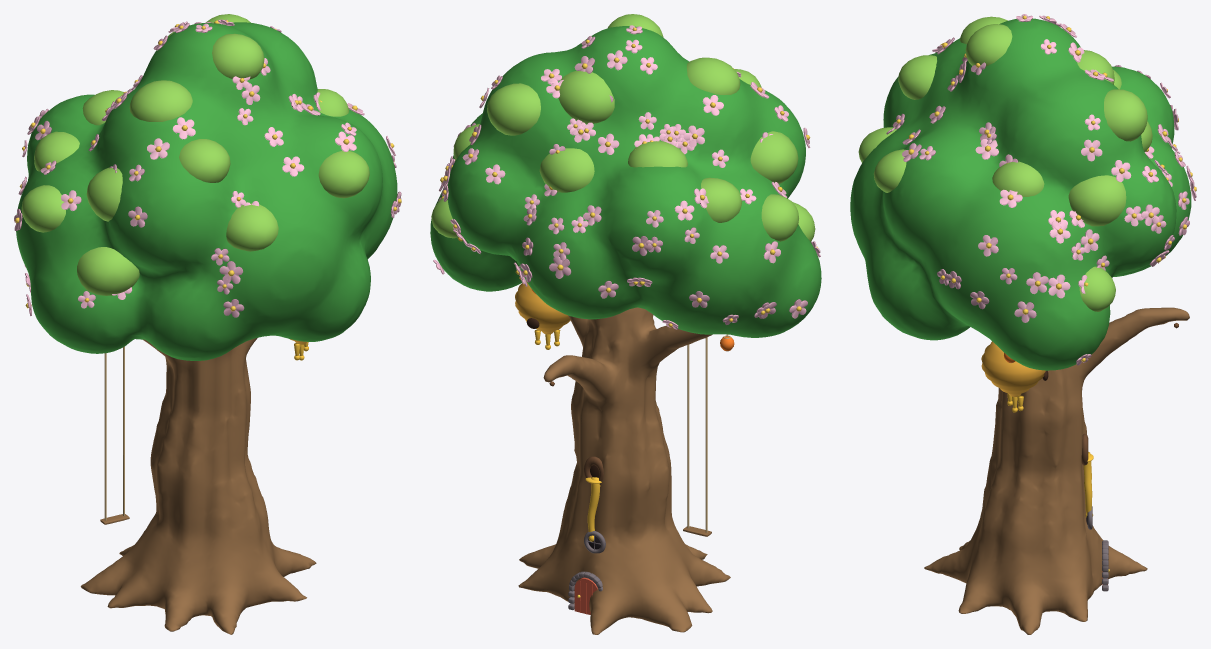
File: HoneyOak.obj
The picture shows the model from 3 angles, left to right: view 1: azimuth 30°, elevation 25°; view 2: azimuth 150°, elevation 25°; view 3: azimuth 270°, elevation 25°; orthographic projection.
Parts seen in each view (by area): view 1: Leaves, Trunk, LeavesLight, Blossoms, Pollen, Rope; view 2: Leaves, Trunk, LeavesLight, Blossoms, Pollen, Hive, Rope, Honey, Stone, Door; view 3: Leaves, Trunk, LeavesLight, Blossoms, Hive, Pollen, Honey.
Part boxes in pixels (x1=…): Leaves: x1=16, y1=22, x2=397, y2=360; Trunk: x1=80, y1=338, x2=316, y2=634; LeavesLight: x1=21, y1=14, x2=369, y2=295; Blossoms: x1=14, y1=19, x2=401, y2=317; Pollen: x1=14, y1=20, x2=401, y2=311; Rope: x1=104, y1=346, x2=124, y2=520; Leaves: x1=430, y1=26, x2=821, y2=337; Trunk: x1=518, y1=307, x2=730, y2=634; LeavesLight: x1=431, y1=14, x2=815, y2=241; Blossoms: x1=433, y1=25, x2=820, y2=329; Pollen: x1=437, y1=27, x2=817, y2=597; Hive: x1=515, y1=281, x2=570, y2=334; Rope: x1=536, y1=294, x2=730, y2=532; Honey: x1=534, y1=329, x2=601, y2=541; Stone: x1=568, y1=531, x2=605, y2=610; Door: x1=574, y1=577, x2=597, y2=614; Leaves: x1=850, y1=18, x2=1191, y2=370; Trunk: x1=924, y1=307, x2=1189, y2=634; LeavesLight: x1=858, y1=16, x2=1152, y2=311; Blossoms: x1=886, y1=14, x2=1196, y2=365; Hive: x1=981, y1=341, x2=1045, y2=396; Pollen: x1=896, y1=15, x2=1196, y2=571; Honey: x1=1007, y1=393, x2=1093, y2=517.
Size of the model in its own units: 43.43 by 64.7 by 36.03.
